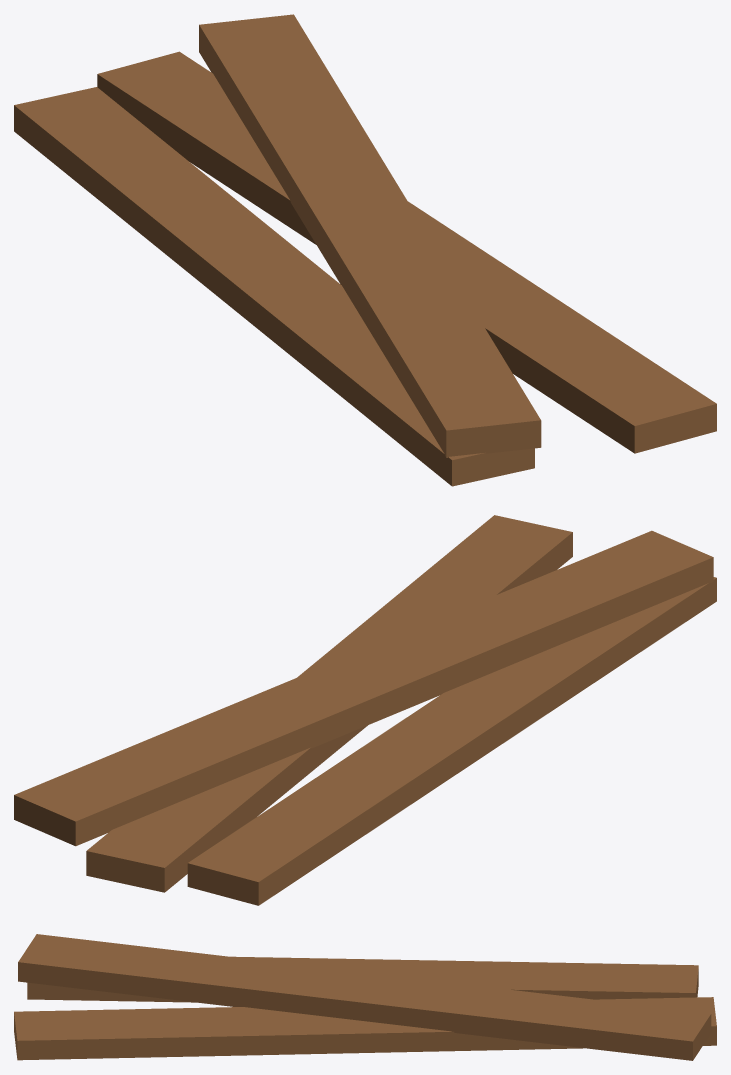
The model's file is Plank_3_mat.fbx.
3 views of the same model, one above another, from view 1: azimuth 30°, elevation 25°; view 2: azimuth 150°, elevation 25°; view 3: azimuth 270°, elevation 25° (orthographic). The views are drawn at different scales.
Parts seen in each view (by area): view 1: Plank_3_mat; view 2: Plank_3_mat; view 3: Plank_3_mat.
Part boxes in pixels (x1,y1,x2,y2): Plank_3_mat: [14, 14, 716, 486]; Plank_3_mat: [14, 515, 716, 905]; Plank_3_mat: [14, 934, 716, 1060].
Size of the model in its own units: 0.7342 by 0.1201 by 2.03.
